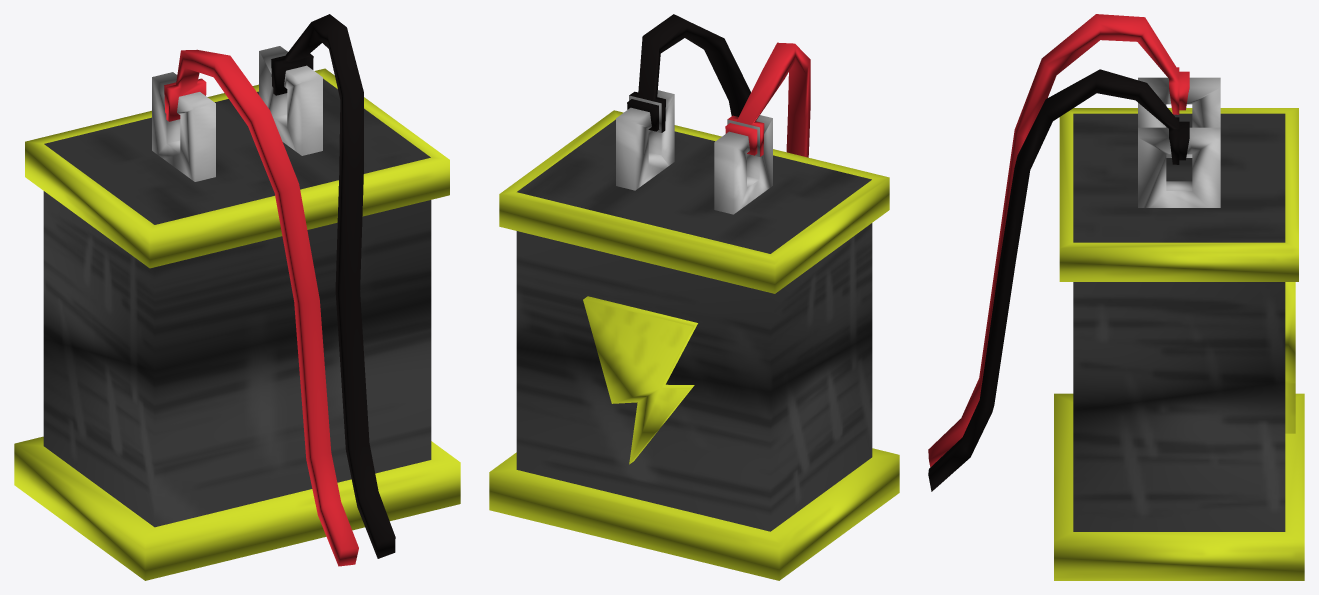
Rendered from Ground Booster.fbx.
3 renders of one model, left to right at view 1: azimuth 30°, elevation 25°; view 2: azimuth 150°, elevation 25°; view 3: azimuth 270°, elevation 25°, orthographic. The views are drawn at different scales.
Visible parts, largest first — view 1: Cube; view 2: Cube; view 3: Cube.
Part boxes in pixels (x1=…): Cube: x1=14, y1=14, x2=460, y2=580; Cube: x1=489, y1=14, x2=899, y2=580; Cube: x1=928, y1=14, x2=1304, y2=580.
Size of the model in its own units: 0.6654 by 0.973 by 0.7178.
